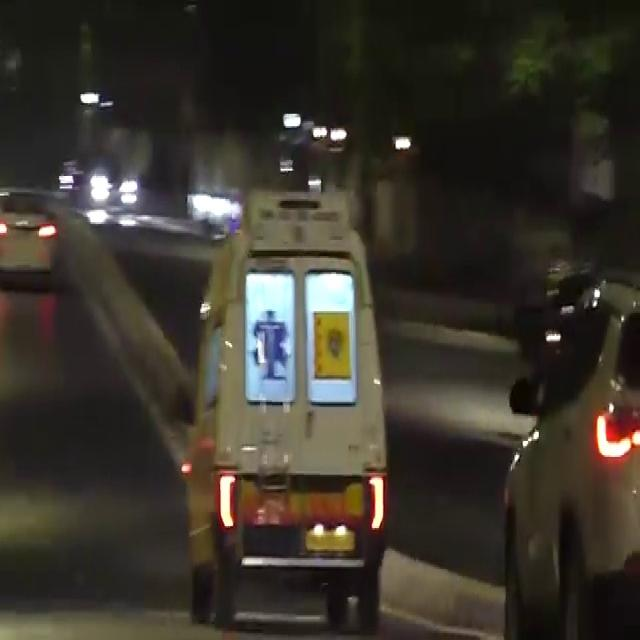ambulance: (200, 187, 394, 582)
